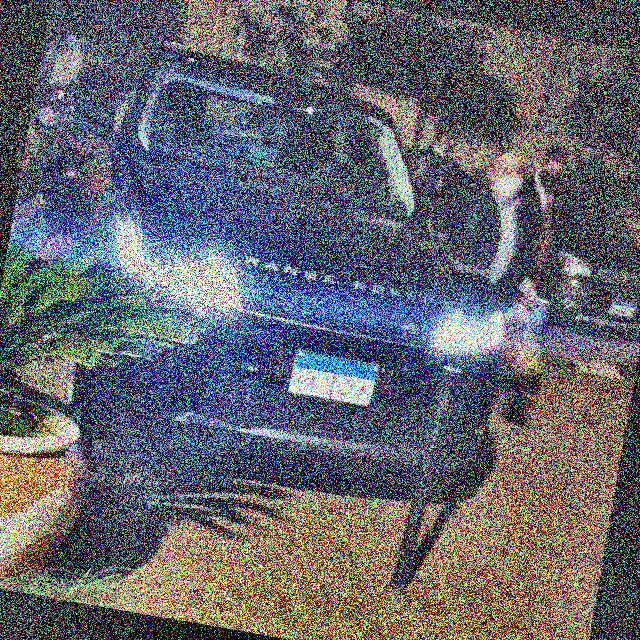License Plate: (286, 347, 382, 411)
